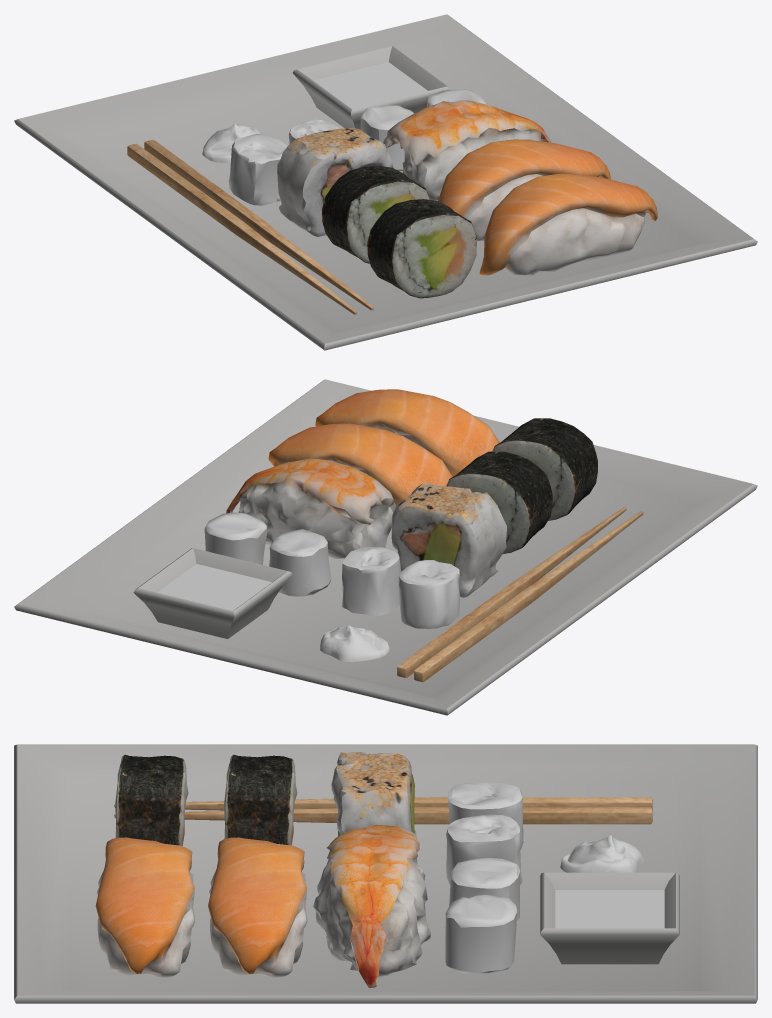
Rendered from Sushi_Test.fbx.
3 renders of one model, top to bottom at view 1: azimuth 30°, elevation 25°; view 2: azimuth 150°, elevation 25°; view 3: azimuth 270°, elevation 25°, orthographic. The views are drawn at different scales.
Visible parts, largest first — view 1: Sushi_Plate002; view 2: Sushi_Plate002; view 3: Sushi_Plate002.
Boxes of the visible parts, x1=… form: Sushi_Plate002: x1=14, y1=14, x2=757, y2=350; Sushi_Plate002: x1=14, y1=379, x2=757, y2=715; Sushi_Plate002: x1=14, y1=744, x2=757, y2=1003.
Size of the model in its own units: 25.7 by 4.99 by 31.8.
